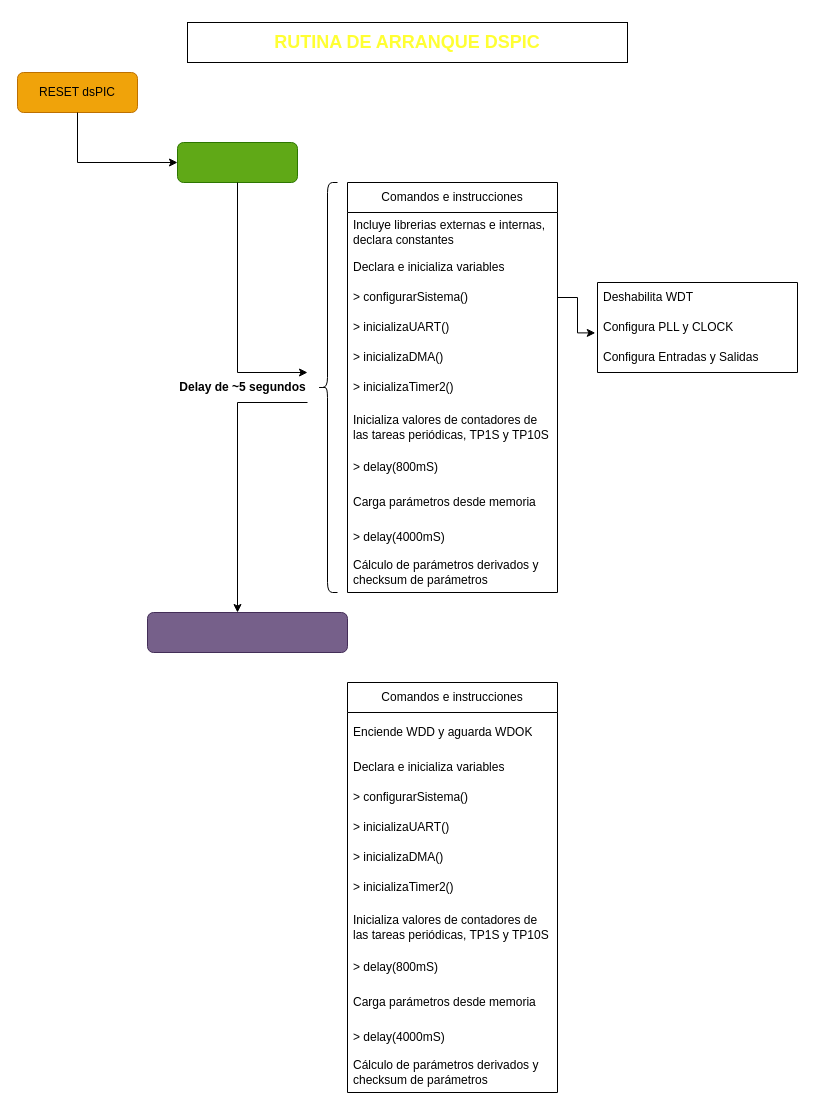
Image size: 815x1110. Some labels were removed from this diagram. Each missing label, with the box of its shape:
Comienzo Tarea no periódica: (146, 612, 348, 652)
Inicialización: (176, 142, 298, 182)
